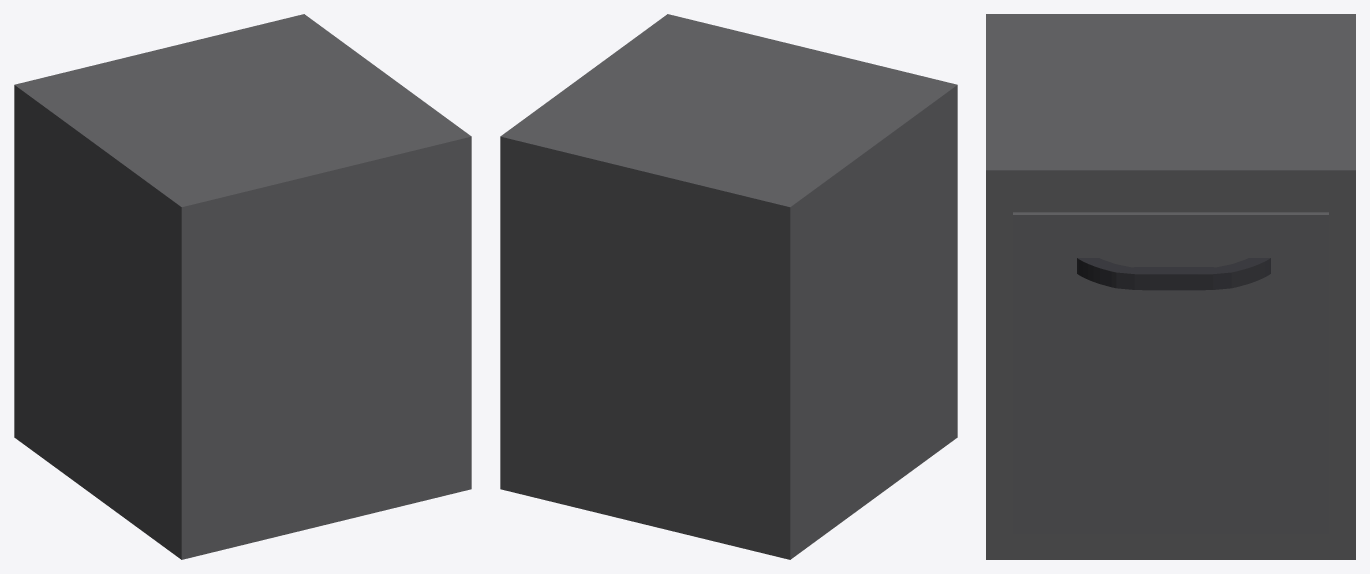
File: trashchute textured.fbx
3 renders of one model, left to right at view 1: azimuth 30°, elevation 25°; view 2: azimuth 150°, elevation 25°; view 3: azimuth 270°, elevation 25°, orthographic. The views are drawn at different scales.
Parts seen in each view (by area): view 1: chute left, chute top, chute back, chute bottom, chute right; view 2: chute right, chute top, chute back, chute bottom, chute left; view 3: Door.001, chute top, chute bottom, chute left, chute right, Cube.005.
Part boxes in pixels (<box>): chute left: <box>168,174,471,534</box>; chute top: <box>14,14,471,244</box>; chute back: <box>27,132,168,524</box>; chute bottom: <box>14,412,471,559</box>; chute right: <box>14,123,27,420</box>; chute right: <box>500,174,803,534</box>; chute top: <box>500,14,957,244</box>; chute back: <box>803,132,944,524</box>; chute bottom: <box>500,412,957,559</box>; chute left: <box>944,123,957,420</box>; Door.001: <box>1013,212,1328,533</box>; chute top: <box>986,14,1355,212</box>; chute bottom: <box>986,531,1355,559</box>; chute left: <box>986,212,1012,531</box>; chute right: <box>1329,212,1355,531</box>; Cube.005: <box>1077,258,1270,290</box>.
Size of the model in its own units: 1361 by 1412 by 1215.
